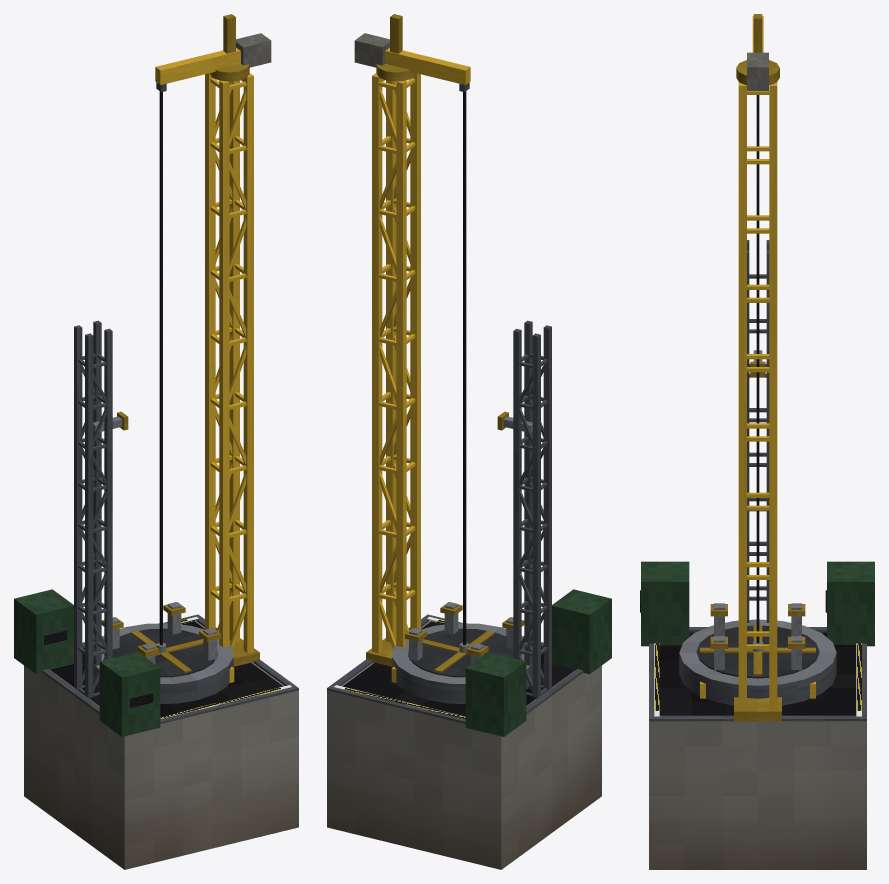
File: launch_pad_2.glb
3 renders of one model, left to right at view 1: azimuth 30°, elevation 25°; view 2: azimuth 150°, elevation 25°; view 3: azimuth 270°, elevation 25°, orthographic. The views are drawn at different scales.
Visible parts, largest first — view 1: root, umb, crane_turret, grip; view 2: root, umb, crane_turret, grip; view 3: root, umb, crane_turret, grip, clamp_0, clamp_3.
Part boxes in pixels (<box>): root: <box>14,73,298,869</box>; umb: <box>74,320,112,698</box>; crane_turret: <box>155,14,271,92</box>; grip: <box>131,630,234,682</box>; root: <box>327,73,611,869</box>; umb: <box>513,320,551,698</box>; crane_turret: <box>354,14,470,92</box>; grip: <box>391,630,494,682</box>; root: <box>640,82,874,869</box>; umb: <box>747,240,769,622</box>; crane_turret: <box>736,14,779,90</box>; grip: <box>700,625,815,698</box>; clamp_0: <box>710,636,727,671</box>; clamp_3: <box>788,636,805,671</box>.
Size of the model in its own units: 2.27 by 8.52 by 2.15.
1 material, 1 textured.
